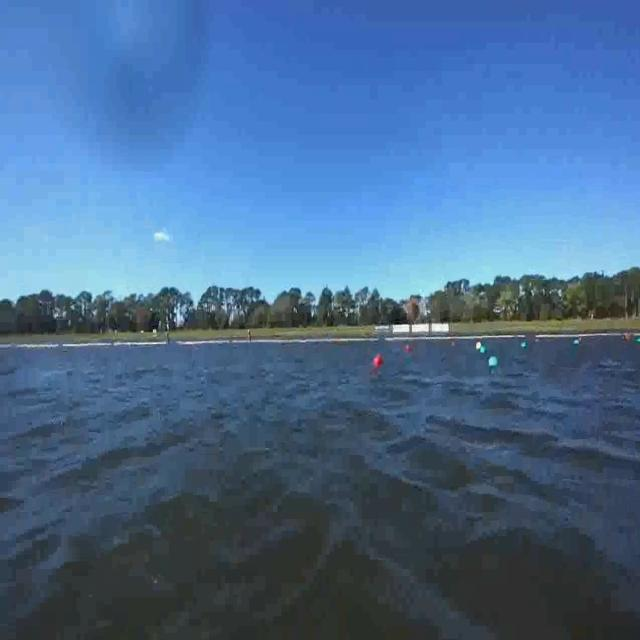green-buoy: (478, 343, 488, 357), (489, 355, 499, 368)
red-buoy: (404, 342, 414, 357), (375, 354, 384, 368)
